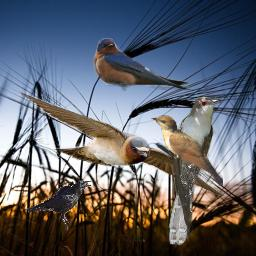Crow: (27, 180, 92, 231)
Cuckoo: (167, 95, 223, 245), (151, 115, 223, 186)
Swallow: (15, 87, 227, 196), (93, 38, 199, 92)
